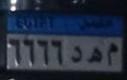6: (35, 38, 49, 65), (8, 38, 21, 64), (51, 38, 63, 66), (23, 36, 34, 65)
daal: (69, 44, 83, 64)
haa: (86, 45, 103, 65)
meem: (106, 40, 119, 67)
